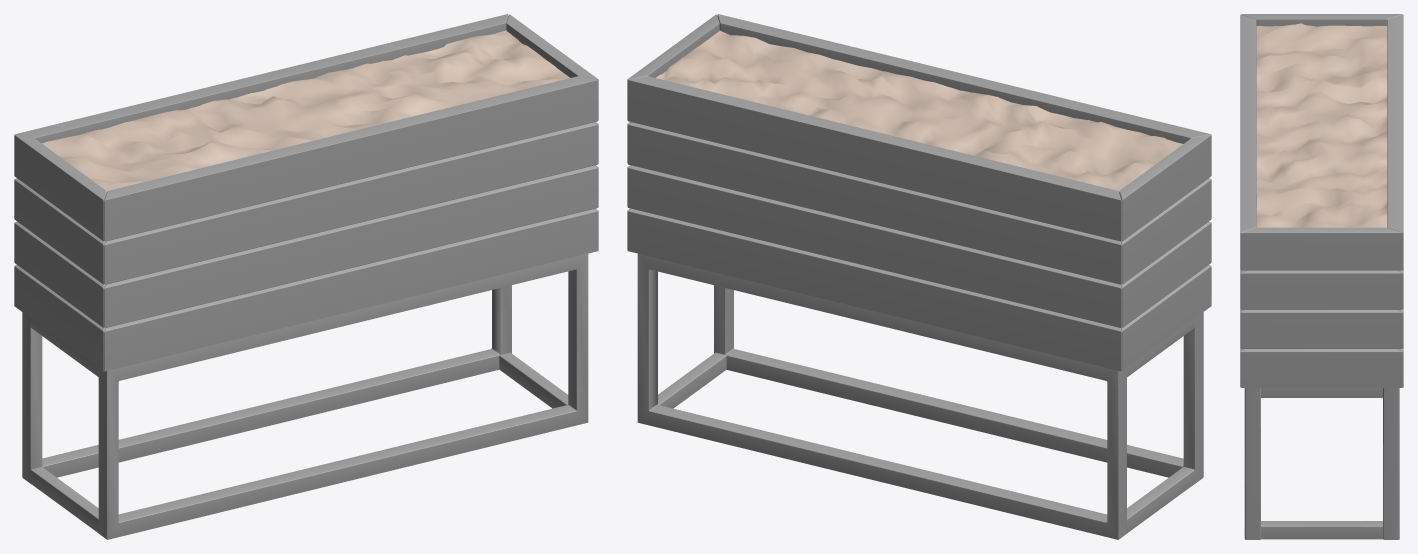
File: PlantRack.fbx
3 views of the same model, side by side, from view 1: azimuth 30°, elevation 25°; view 2: azimuth 150°, elevation 25°; view 3: azimuth 270°, elevation 25° (orthographic). The views are drawn at different scales.
Parts seen in each view (by area): view 1: polySurface162, polySurface157; view 2: polySurface162, polySurface157; view 3: polySurface162, polySurface157.
Part boxes in pixels (left/top/right/bottom): polySurface162: left=14, top=14, right=598, bottom=539; polySurface157: left=42, top=30, right=569, bottom=192; polySurface162: left=627, top=14, right=1211, bottom=539; polySurface157: left=656, top=30, right=1182, bottom=192; polySurface162: left=1240, top=14, right=1403, bottom=539; polySurface157: left=1256, top=23, right=1387, bottom=227.
Size of the model in its own units: 1.48 by 0.9864 by 0.468.
